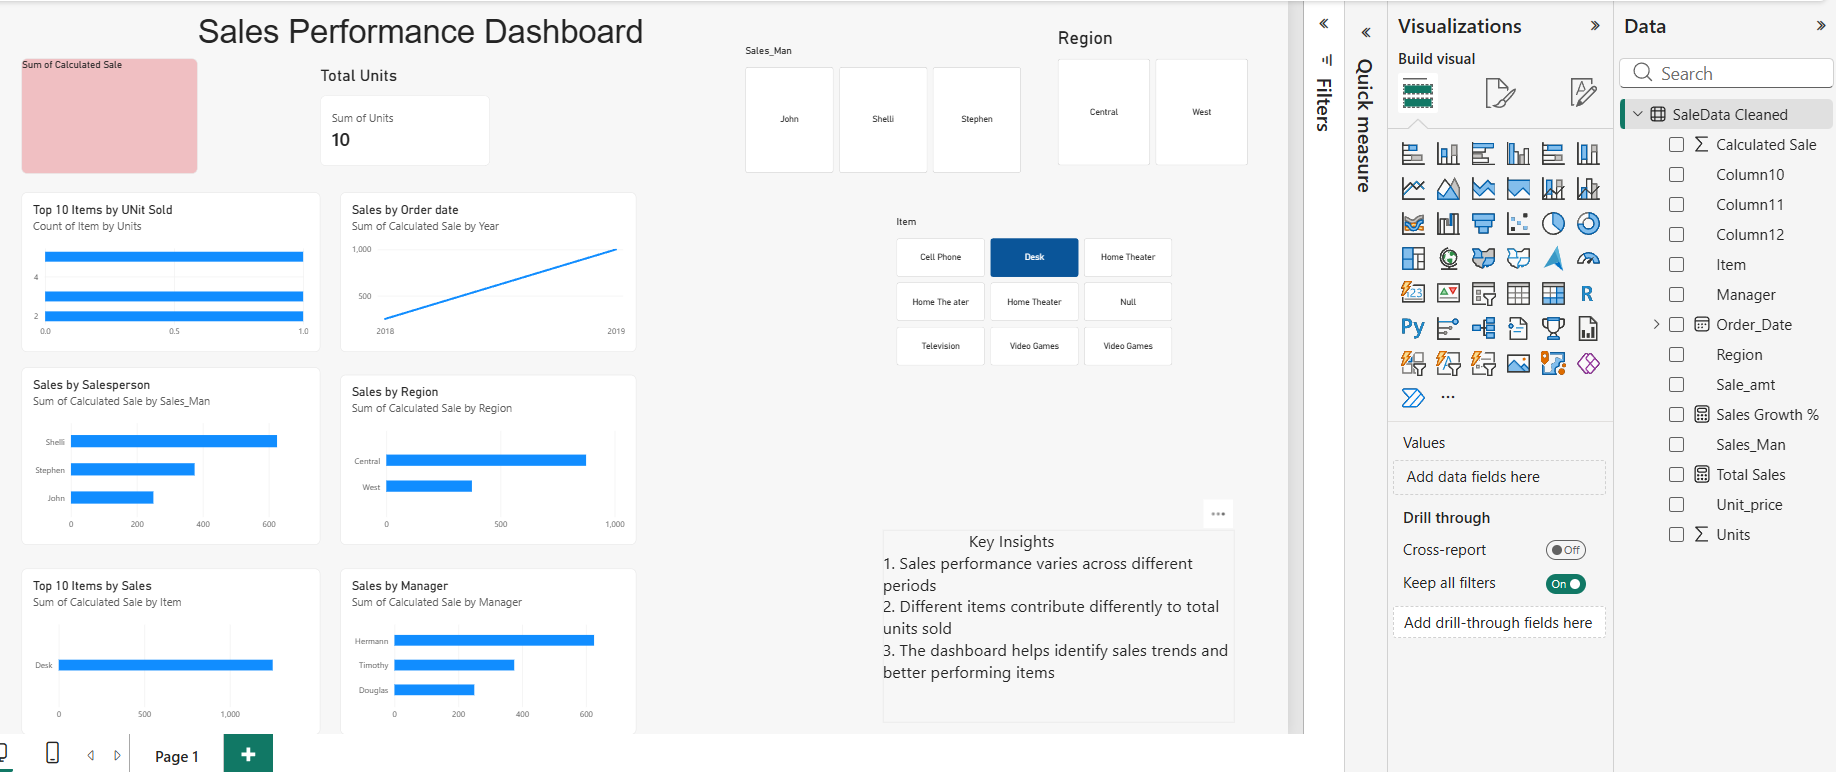

The dashboard page shown, as its layout file describes it:
{"tool":"powerbi","page":{"name":"Page 1","canvas":[1920,1080],"ordinal":0},"visuals":[{"type":"clusteredBarChart","title":"Sales by Region","fields":{"Category":["SaleData Cleaned.Region"],"Y":["Sum(SaleData Cleaned.Calculated Sale)"]},"box":[524.5,550.3,436.2,250.3],"z":0},{"type":"lineChart","title":"Sales by Order date","fields":{"Category":["SaleData Cleaned.Order_Date.Variation.Date Hierarchy.Year","SaleData Cleaned.Order_Date.Variation.Date Hierarchy.Month"],"Y":["Sum(SaleData Cleaned.Calculated Sale)"]},"box":[524.5,281.6,436.2,235.6],"z":1000},{"type":"clusteredBarChart","title":"Top 10 Items by Sales","fields":{"Category":["SaleData Cleaned.Item"],"Y":["Sum(SaleData Cleaned.Calculated Sale)"]},"box":[55.2,835.6,439.9,244.8],"z":2000},{"type":"clusteredBarChart","title":"Sales by Salesperson","fields":{"Category":["SaleData Cleaned.Sales_Man"],"Y":["Sum(SaleData Cleaned.Calculated Sale)"]},"box":[55.2,539.3,439.9,261.4],"z":3000},{"type":"clusteredBarChart","title":"Sales by Manager","fields":{"Category":["SaleData Cleaned.Manager"],"Y":["Sum(SaleData Cleaned.Calculated Sale)"]},"box":[524.5,835.6,436.2,244.8],"z":4000},{"type":"advancedSlicerVisual","fields":{"Label":["Sum(SaleData Cleaned.Calculated Sale)"]},"box":[55.2,84.7,259.5,169.3],"z":5000},{"type":"clusteredBarChart","title":"Top 10 Items by UNit Sold","fields":{"Category":["SaleData Cleaned.Units"],"Y":["CountNonNull(SaleData Cleaned.Item)"]},"box":[55.2,281.6,439.9,235.6],"z":6000},{"type":"textbox","box":[314.7,18.4,760.1,103.1],"z":7000},{"type":"textbox","box":[1323.3,778.5,517.2,285.3],"z":8000},{"type":"advancedSlicerVisual","fields":{"Values":["SaleData Cleaned.Region"]},"box":[1581,38.7,281.6,204.3],"z":9000},{"type":"cardVisual","title":"Total Units","fields":{"Data":["Sum(SaleData Cleaned.Units)"]},"box":[495.1,95.7,250.3,147.2],"z":10000},{"type":"advancedSlicerVisual","fields":{"Values":["SaleData Cleaned.Sales_Man"]},"box":[1120.9,64.4,406.8,189.6],"z":11000},{"type":"advancedSlicerVisual","fields":{"Values":["SaleData Cleaned.Item"]},"box":[1343.6,316.6,406.8,222.7],"z":12000}]}

Visuals, with their boxes on the page's 1920x1080 design canvas (x1, y1, x2, y2). These are canvas units, not pixel positions in the 1836x772 screenshot, which may show the page scaled, cropped or inside an application window:
"Sales by Region" clusteredBarChart: pyautogui.locateOnScreen(524, 550, 961, 801)
"Sales by Order date" lineChart: pyautogui.locateOnScreen(524, 282, 961, 517)
"Top 10 Items by Sales" clusteredBarChart: pyautogui.locateOnScreen(55, 836, 495, 1080)
"Sales by Salesperson" clusteredBarChart: pyautogui.locateOnScreen(55, 539, 495, 801)
"Sales by Manager" clusteredBarChart: pyautogui.locateOnScreen(524, 836, 961, 1080)
advancedSlicerVisual - Sum(SaleData Cleaned.Calculated Sale): pyautogui.locateOnScreen(55, 85, 315, 254)
"Top 10 Items by UNit Sold" clusteredBarChart: pyautogui.locateOnScreen(55, 282, 495, 517)
textbox: pyautogui.locateOnScreen(315, 18, 1075, 122)
textbox: pyautogui.locateOnScreen(1323, 778, 1840, 1064)
advancedSlicerVisual - SaleData Cleaned.Region: pyautogui.locateOnScreen(1581, 39, 1863, 243)
"Total Units" cardVisual: pyautogui.locateOnScreen(495, 96, 745, 243)
advancedSlicerVisual - SaleData Cleaned.Sales_Man: pyautogui.locateOnScreen(1121, 64, 1528, 254)
advancedSlicerVisual - SaleData Cleaned.Item: pyautogui.locateOnScreen(1344, 317, 1750, 539)
